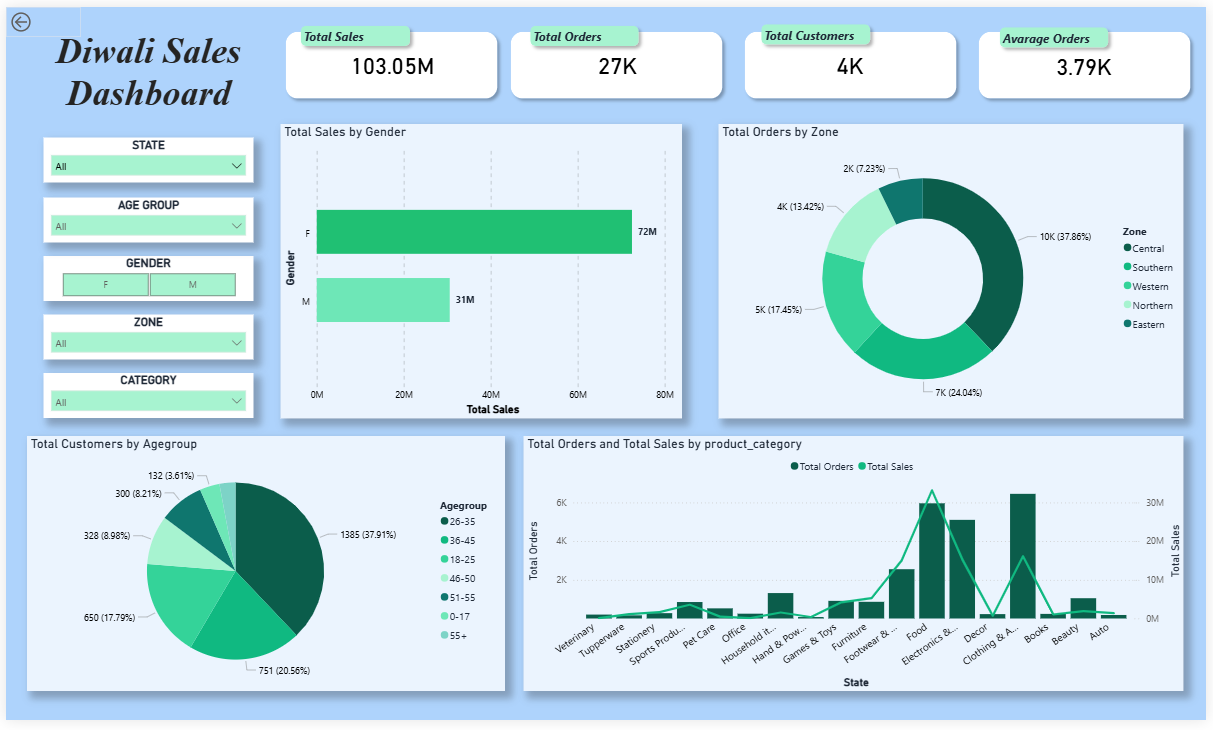

This screenshot's page, from the dashboard's own definition file:
{"tool":"powerbi","page":{"name":"Page 1","canvas":[1600,950],"ordinal":0},"visuals":[{"type":"shape","box":[364,24,300,107],"z":1000},{"type":"shape","box":[1288,23,300,107],"z":2000},{"type":"shape","box":[975,23,300,107],"z":3000},{"type":"textbox","box":[50,25,280,147.5],"z":4000},{"type":"actionButton","box":[0,0,100,40],"z":5000},{"type":"slicer","title":"STATE","fields":{"Values":["Clean Diwali Sales Data.state"]},"box":[50,173,280,60],"z":6000},{"type":"slicer","title":"GENDER","fields":{"Values":["Clean Diwali Sales Data.gender"]},"box":[50,332,280,60],"z":7000},{"type":"slicer","title":"AGE GROUP","fields":{"Values":["Clean Diwali Sales Data.agegroup"]},"box":[50,254,280,60],"z":8000},{"type":"slicer","title":"ZONE","fields":{"Values":["Clean Diwali Sales Data.zone"]},"box":[50,409,280,60],"z":9000},{"type":"slicer","title":"CATEGORY","fields":{"Values":["Clean Diwali Sales Data.product_category"]},"box":[50,487,280,60],"z":10000},{"type":"card","fields":{"Values":["Clean Diwali Sales Data.Total Sales"]},"box":[410,25,210,100],"z":11000},{"type":"shape","box":[664,23,300,107],"z":12000},{"type":"card","fields":{"Values":["Clean Diwali Sales Data.Total Orders"]},"box":[710,25,210,100],"z":13000},{"type":"card","fields":{"Values":["Clean Diwali Sales Data.Total Customers"]},"box":[1020,25,210,100],"z":14000},{"type":"card","fields":{"Values":["Clean Diwali Sales Data.Avarage Order Value"]},"box":[1332.5,27.5,210,100],"z":15000},{"type":"shape","box":[1315,17.5,162.5,45],"z":16000},{"type":"shape","box":[690,14.3,162.9,44.3],"z":17000},{"type":"shape","box":[383.8,15,163.8,45],"z":18000},{"type":"clusteredBarChart","title":"Total Sales by Gender","fields":{"Category":["Clean Diwali Sales Data.gender"],"Y":["Clean Diwali Sales Data.Total Sales"]},"box":[365,155,535,392.5],"z":19000},{"type":"donutChart","title":"Total Orders by Zone","fields":{"Category":["Clean Diwali Sales Data.zone"],"Y":["Clean Diwali Sales Data.Total Orders"]},"box":[950,155,620,392.5],"z":20000},{"type":"lineClusteredColumnComboChart","fields":{"Category":["Clean Diwali Sales Data.product_category"],"Y":["Clean Diwali Sales Data.Total Orders"],"Y2":["Clean Diwali Sales Data.Total Sales"]},"box":[690,572.5,880,340],"z":21000},{"type":"pieChart","title":"Total Customers by Agegroup","fields":{"Category":["Clean Diwali Sales Data.agegroup"],"Y":["Clean Diwali Sales Data.Total Customers"]},"box":[27.5,572.5,637.5,340],"z":22000},{"type":"shape","box":[997.8,14.4,163.3,45],"z":22500}]}

Visuals, with their boxes in screenshot pixels (x1, y1, x2, y2), scaled from the page's 1600x950 canvas onto the 1213x730 screenshot:
shape: left=276, top=18, right=503, bottom=101
shape: left=976, top=18, right=1204, bottom=100
shape: left=739, top=18, right=967, bottom=100
textbox: left=38, top=19, right=250, bottom=133
actionButton: left=0, top=0, right=76, bottom=31
"STATE" slicer: left=38, top=133, right=250, bottom=179
"GENDER" slicer: left=38, top=255, right=250, bottom=301
"AGE GROUP" slicer: left=38, top=195, right=250, bottom=241
"ZONE" slicer: left=38, top=314, right=250, bottom=360
"CATEGORY" slicer: left=38, top=374, right=250, bottom=420
card - Clean Diwali Sales Data.Total Sales: left=311, top=19, right=470, bottom=96
shape: left=503, top=18, right=731, bottom=100
card - Clean Diwali Sales Data.Total Orders: left=538, top=19, right=697, bottom=96
card - Clean Diwali Sales Data.Total Customers: left=773, top=19, right=932, bottom=96
card - Clean Diwali Sales Data.Avarage Order Value: left=1010, top=21, right=1169, bottom=98
shape: left=997, top=13, right=1120, bottom=48
shape: left=523, top=11, right=647, bottom=45
shape: left=291, top=12, right=415, bottom=46
"Total Sales by Gender" clusteredBarChart: left=277, top=119, right=682, bottom=421
"Total Orders by Zone" donutChart: left=720, top=119, right=1190, bottom=421
lineClusteredColumnComboChart - Clean Diwali Sales Data.product_category x Clean Diwali Sales Data.Total Orders: left=523, top=440, right=1190, bottom=701
"Total Customers by Agegroup" pieChart: left=21, top=440, right=504, bottom=701
shape: left=756, top=11, right=880, bottom=46
